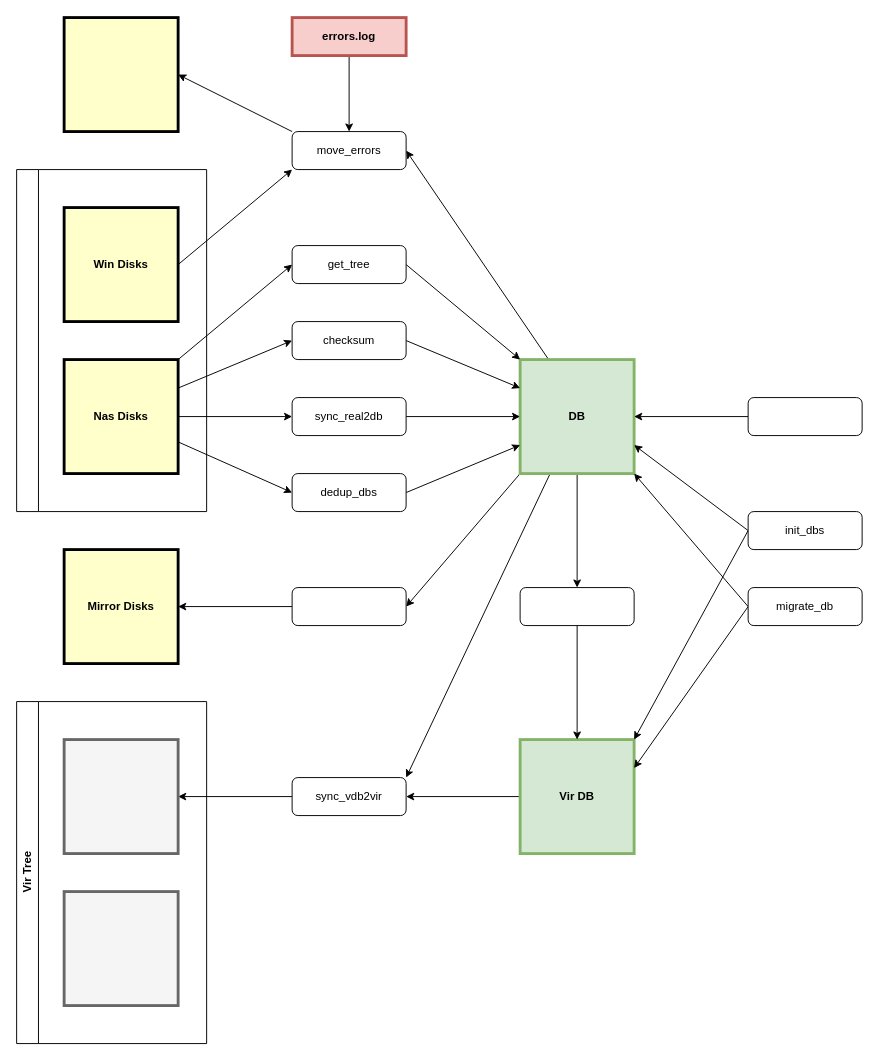
Some shapes in this 879 by 1060 pixel diagram are drawn without their labels. The shapes that lost their labels are listed below. From the top down, each one's centre as x and y in pixels, then its label:
At point 120,74: "Error Disks".
At point 111,340: "Real Disks".
At point 804,416: "mod_paths".
At point 348,606: "dedup_mirrors".
At point 576,606: "sync_db2vdb".
At point 120,796: "Vir Disks".
At point 120,948: "Sort Disks".
